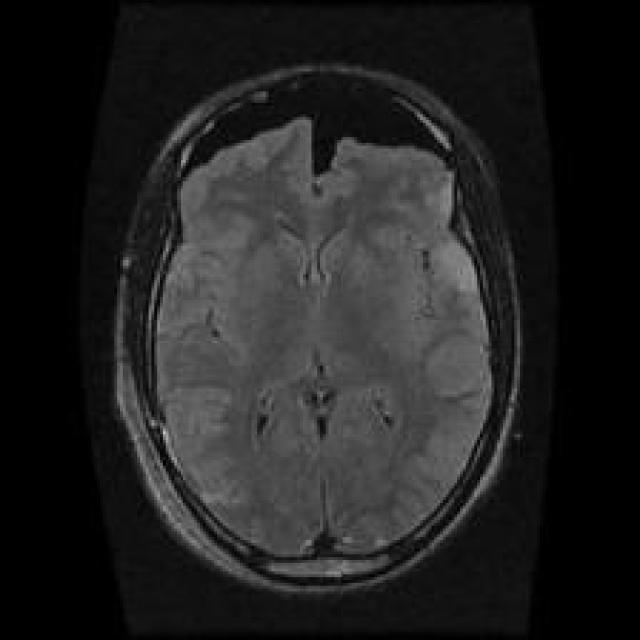no_tumor: (102, 59, 540, 615)
